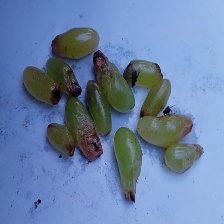grapes: (44, 18, 180, 187)
